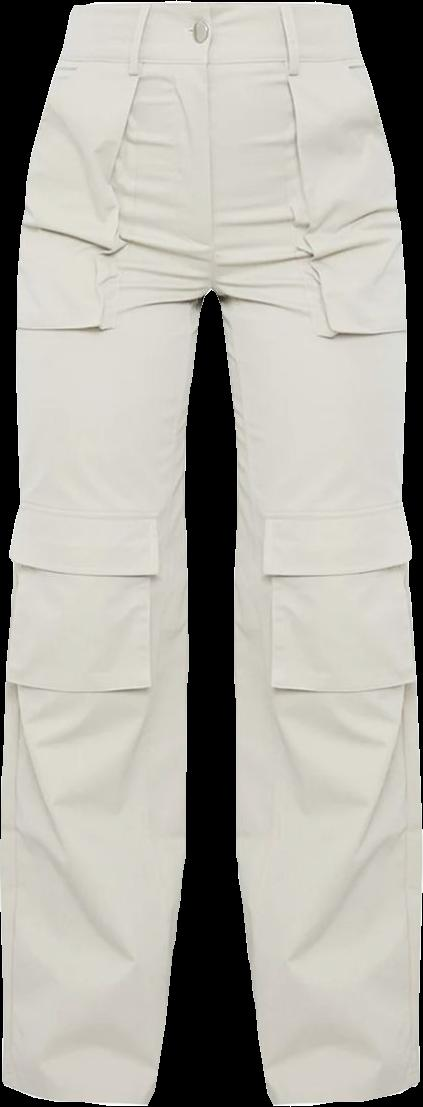Hemline: (2, 1075, 150, 1106), (270, 1079, 422, 1106)
Pantleg: (203, 3, 421, 1104), (0, 3, 204, 1104)
Waistline: (52, 46, 366, 71), (72, 0, 350, 18)
